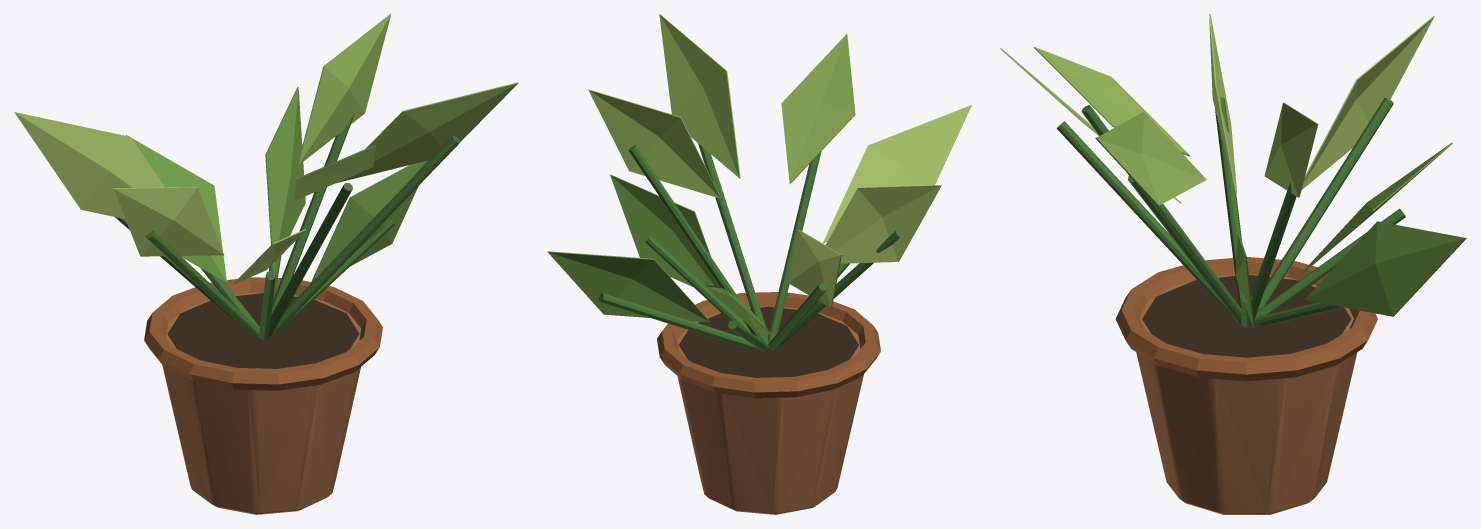
The model's file is potted_plant.fbx.
3 views of the same model, side by side, from view 1: azimuth 30°, elevation 25°; view 2: azimuth 150°, elevation 25°; view 3: azimuth 270°, elevation 25° (orthographic). The views are drawn at different scales.
Parts seen in each view (by area): view 1: potted_plant; view 2: potted_plant; view 3: potted_plant.
Boxes of the visible parts, left/top/right/bottom form: potted_plant: left=14, top=14, right=518, bottom=514; potted_plant: left=547, top=14, right=971, bottom=514; potted_plant: left=1000, top=14, right=1466, bottom=514.
Bounding box in the file's own units: 63.24 × 70.02 × 66.51.
